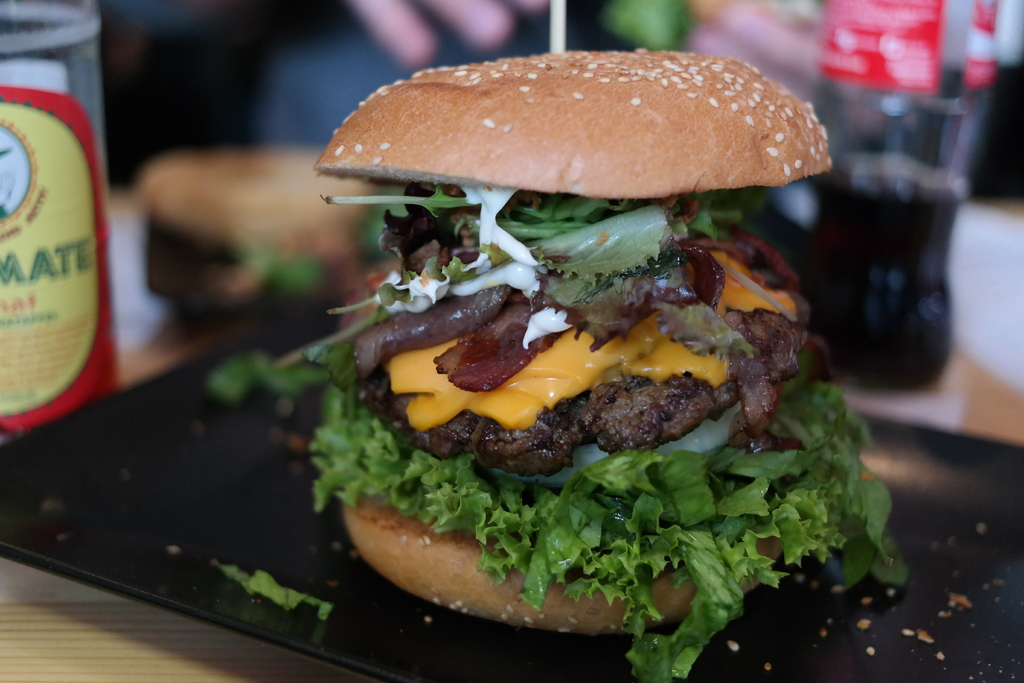Hamburger: (275, 50, 902, 682)
